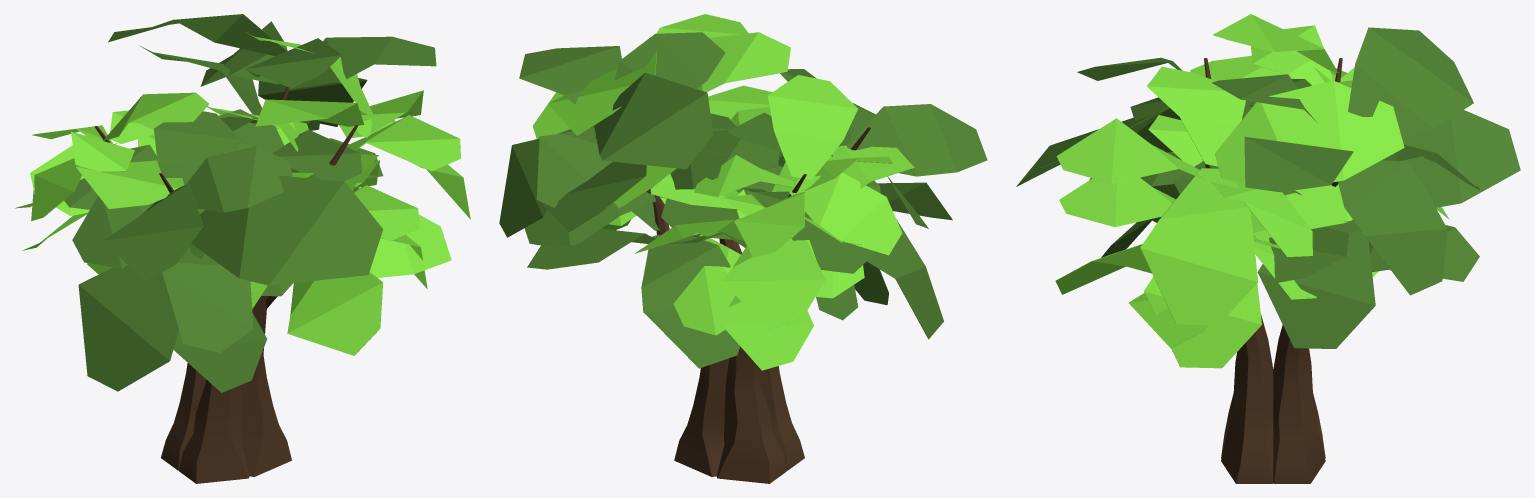
The model's file is trees2 (1).fbx.
3 views of the same model, side by side, from view 1: azimuth 30°, elevation 25°; view 2: azimuth 150°, elevation 25°; view 3: azimuth 270°, elevation 25° (orthographic). The views are drawn at different scales.
Visible parts, largest first — view 1: Cylinder.002; view 2: Cylinder.002; view 3: Cylinder.002.
Boxes of the visible parts, x1,y1,x2,y2 form: Cylinder.002: (15,14,470,483); Cylinder.002: (499,14,987,483); Cylinder.002: (1016,14,1520,483).
Bounding box in the file's own units: 2479 × 2488 × 2674.
